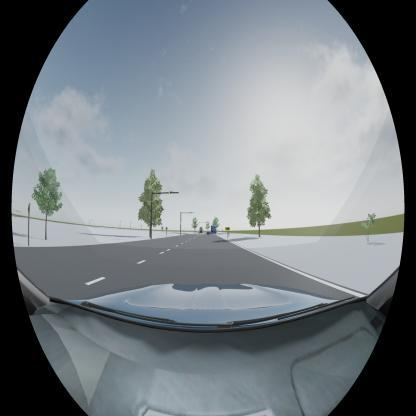Green Light: (167, 190, 173, 194)
